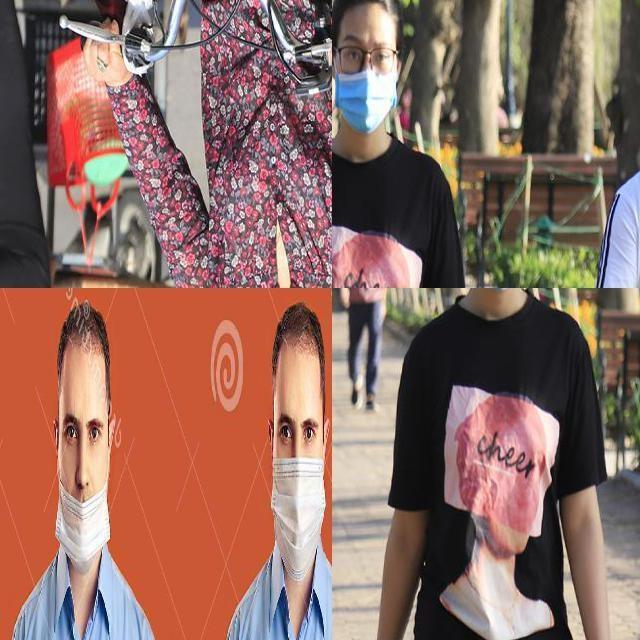hairnet: (53, 460, 111, 566)
